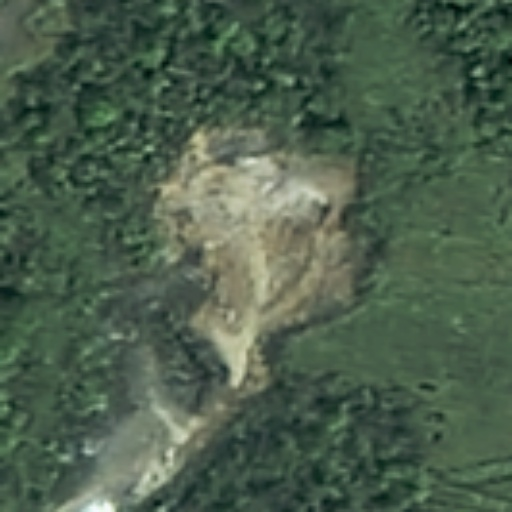landslide: (162, 129, 352, 383)
